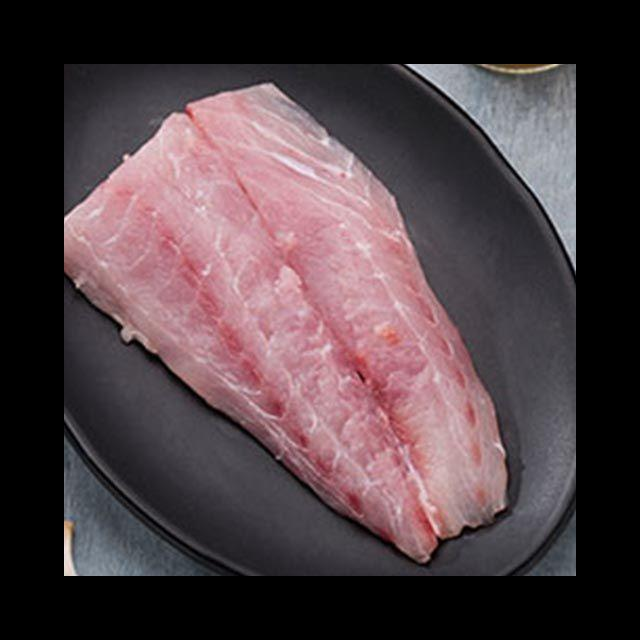fish: (64, 75, 518, 565)
